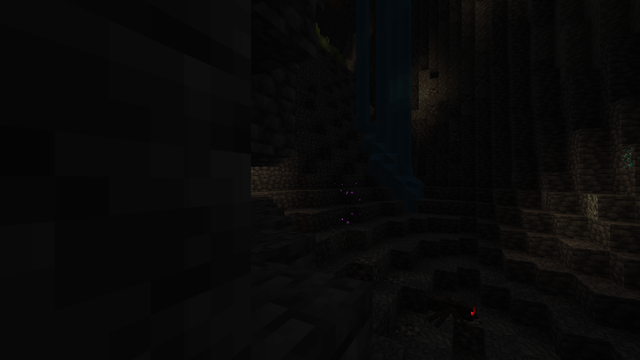araignees: (432, 288, 474, 335)
